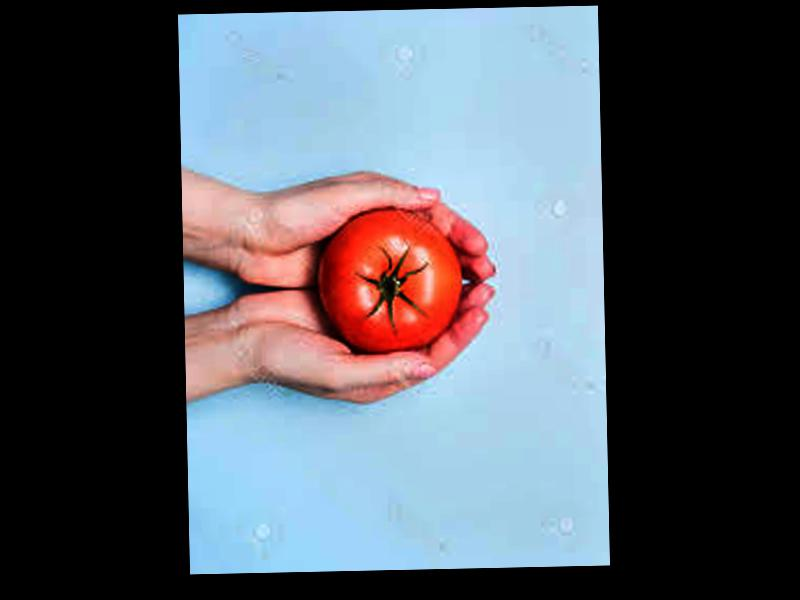Tomato: (317, 207, 462, 358)
